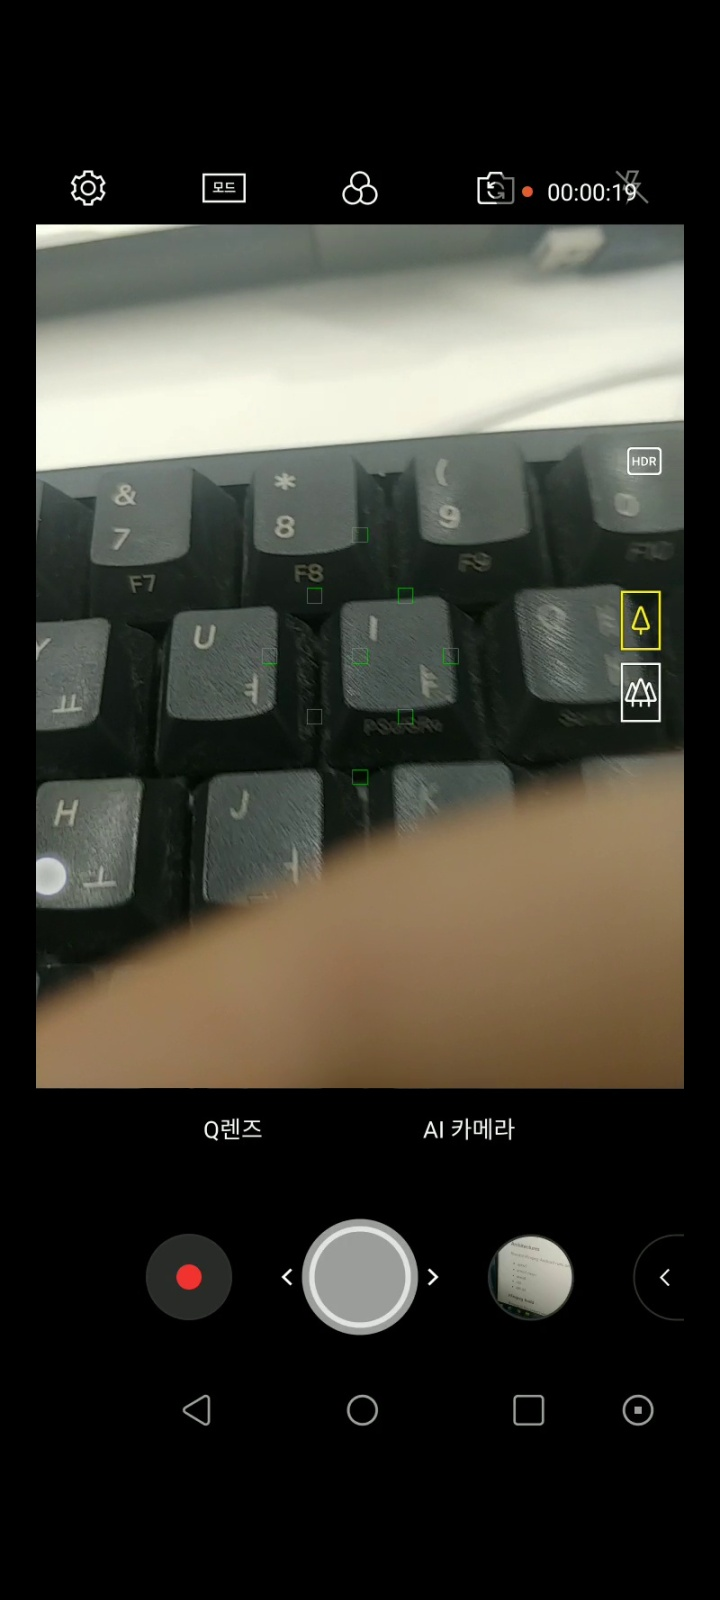Cursor: (37, 851, 71, 905)
